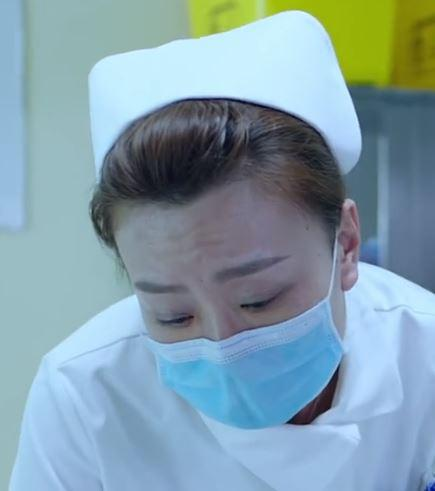OK: (132, 233, 343, 431)
